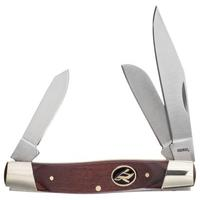knife: (7, 5, 197, 197), (111, 4, 199, 188), (3, 70, 77, 191)
